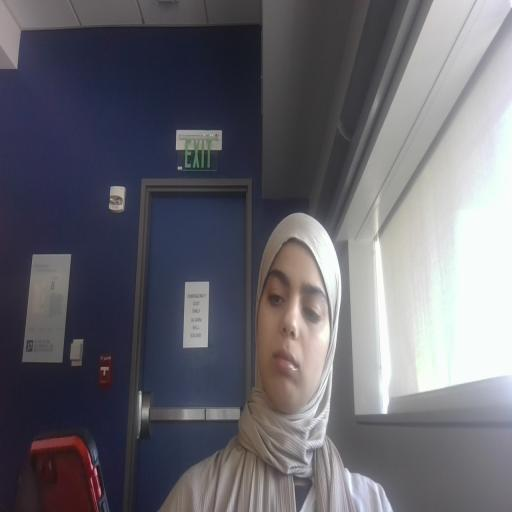phone: (16, 420, 135, 512)
